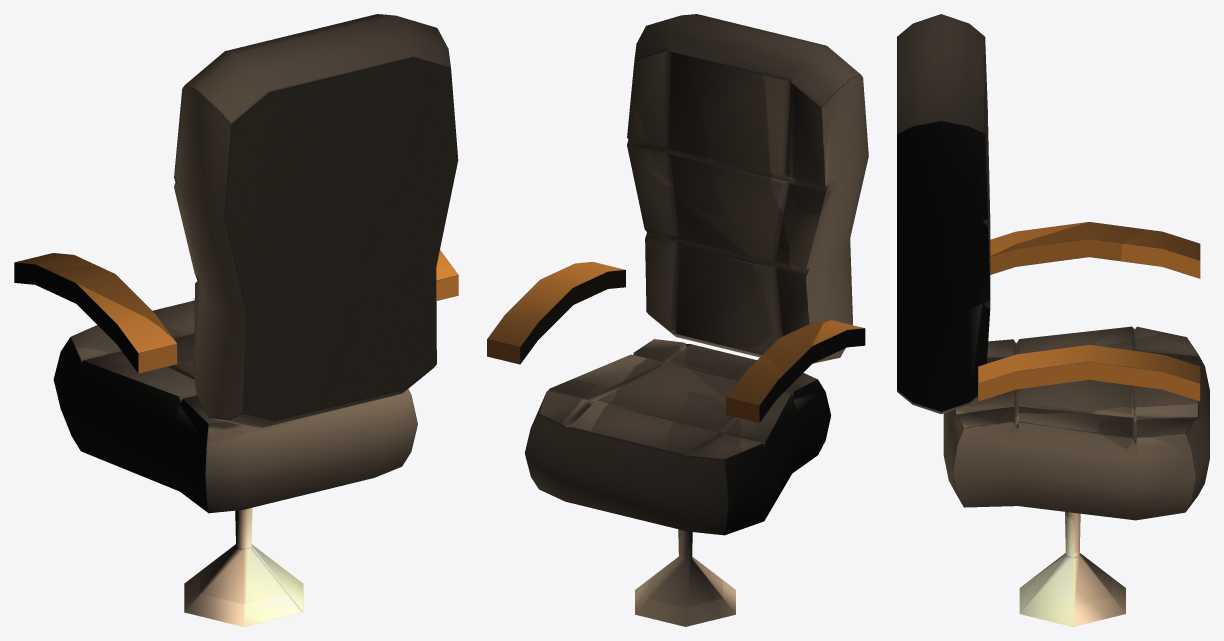
The model's file is bureau_chair.FBX.
3 renders of one model, left to right at view 1: azimuth 30°, elevation 25°; view 2: azimuth 150°, elevation 25°; view 3: azimuth 270°, elevation 25°, orthographic. The views are drawn at different scales.
Visible parts, largest first — view 1: bureauchair01; view 2: bureauchair01; view 3: bureauchair01.
Boxes of the visible parts, box(x1,y1,x2,y2) form: bureauchair01: box(14, 14, 458, 626); bureauchair01: box(487, 14, 868, 626); bureauchair01: box(897, 14, 1209, 626).
Bounding box in the file's own units: 0.8244 × 1.52 × 0.7792.
